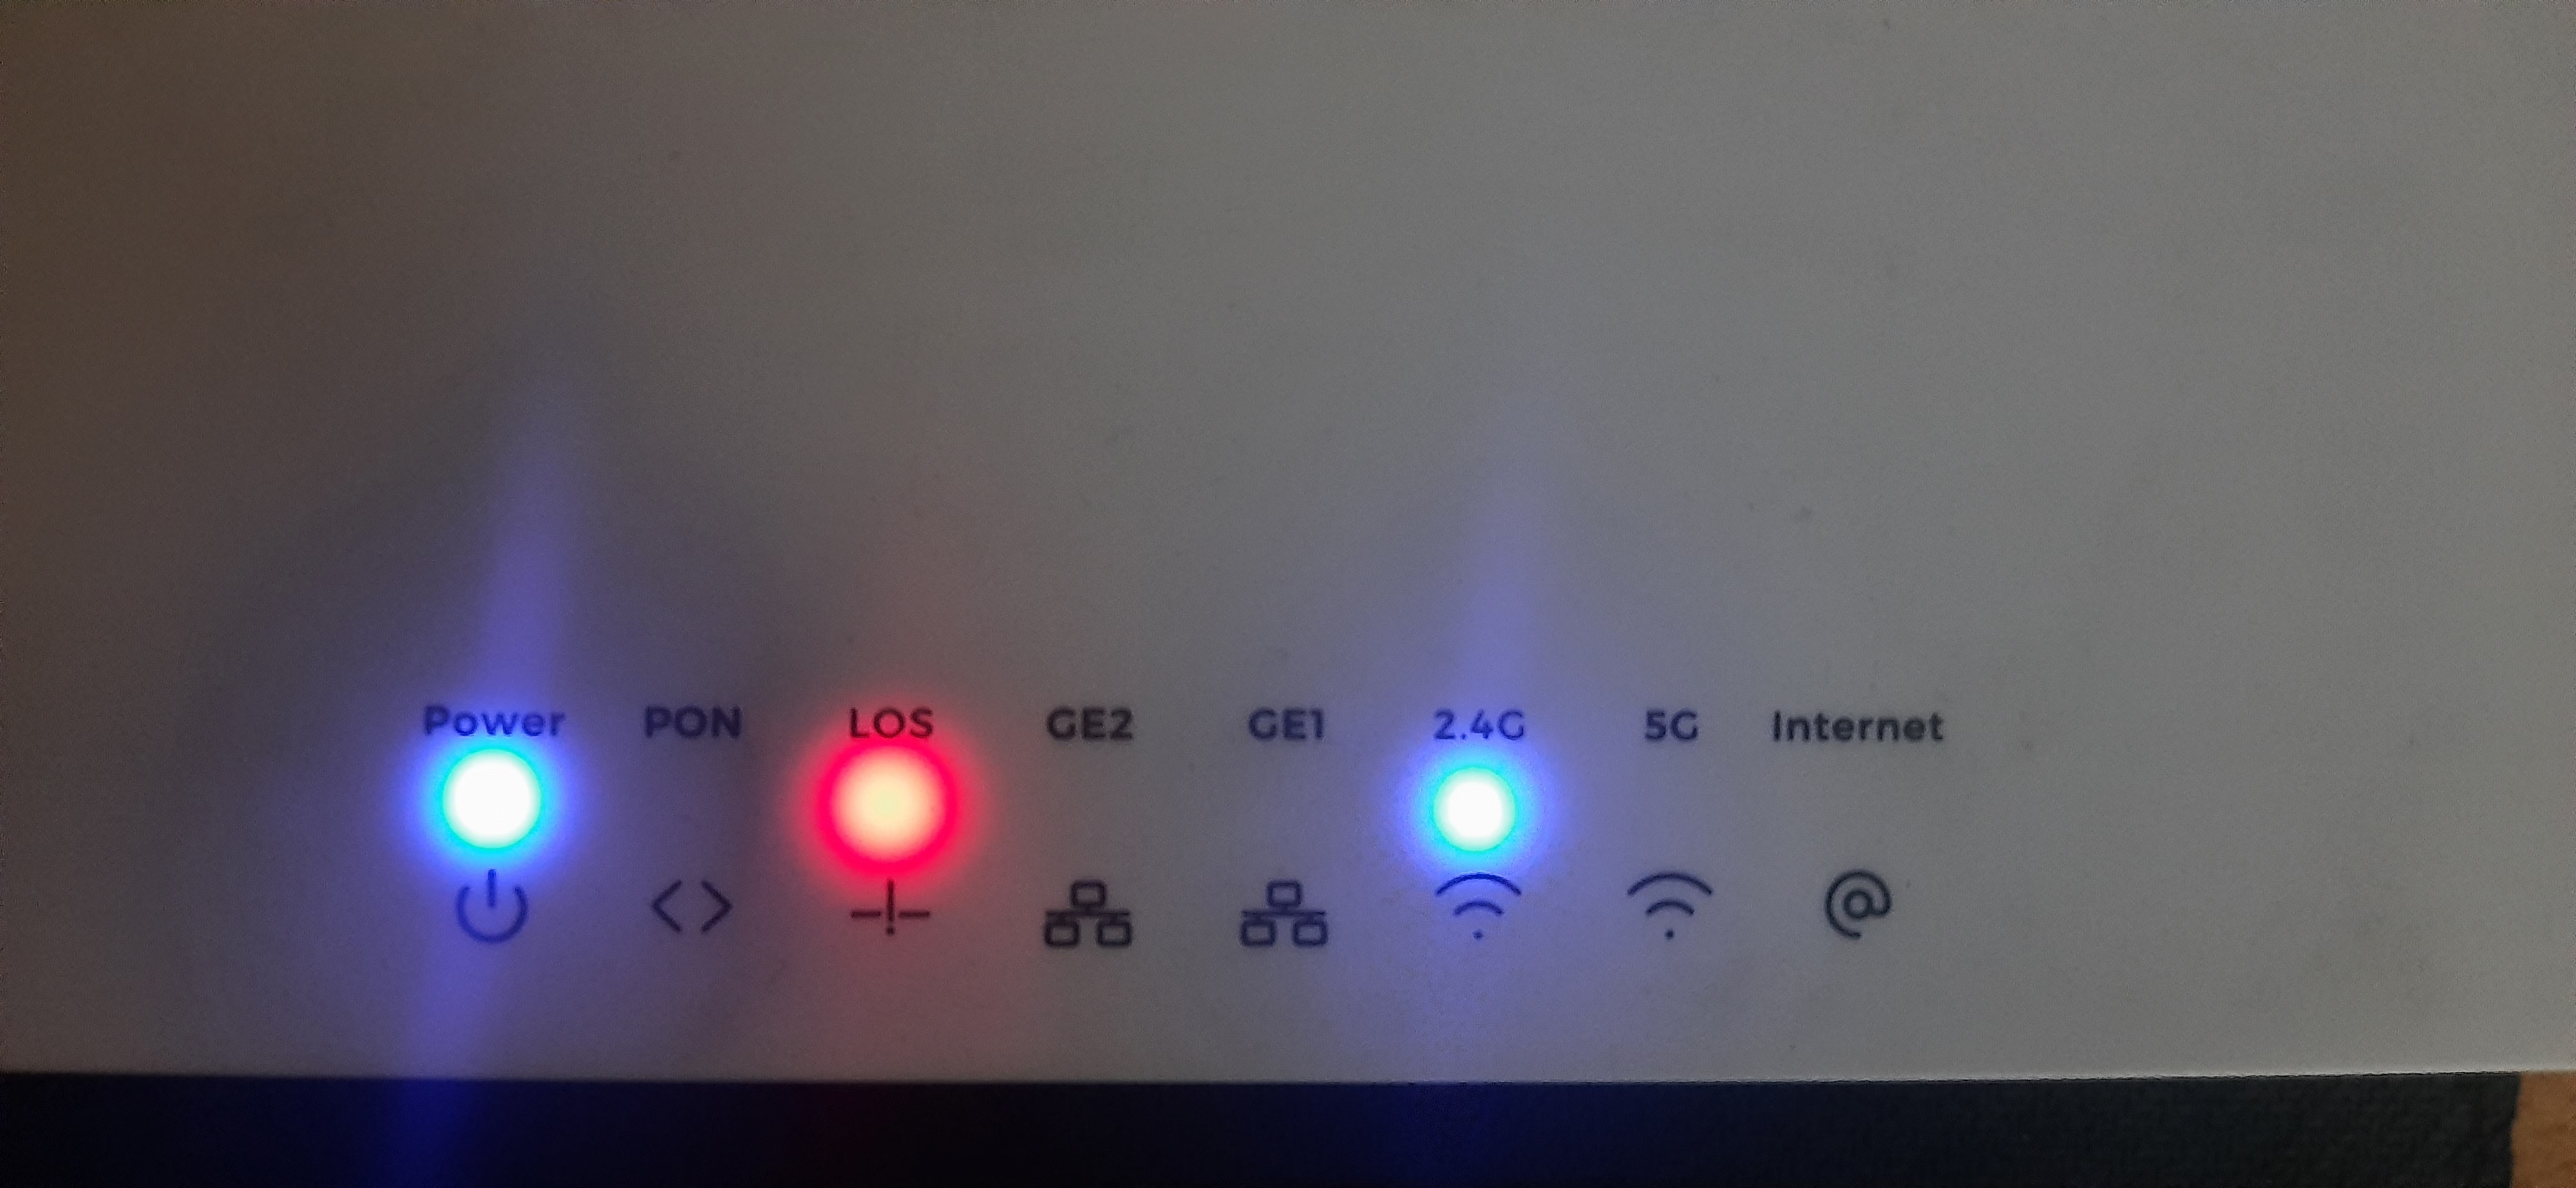LOSConnectionIssue: (767, 672, 1025, 960)
